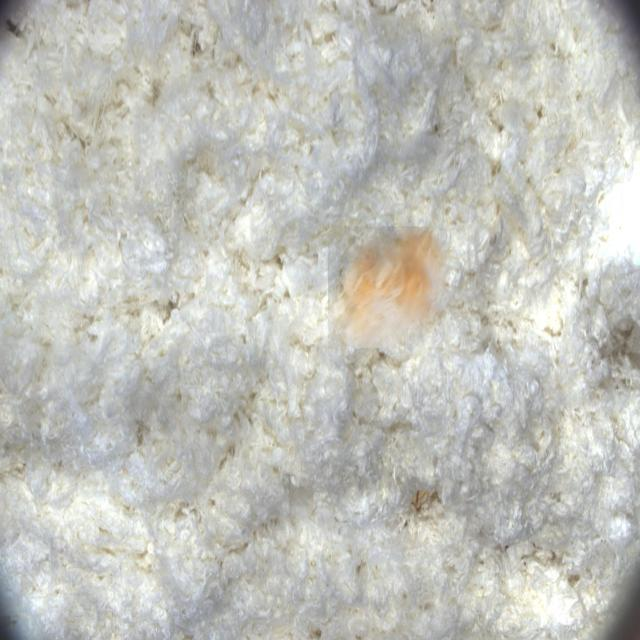dust: (328, 226, 450, 348)
